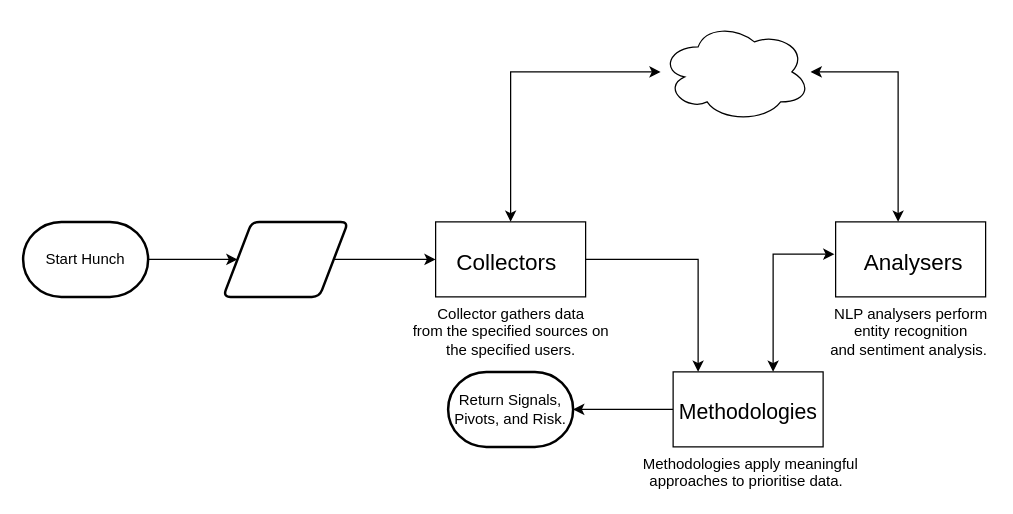
Some shapes in this 1013 by 514 pixel diagram are drawn without their labels. Here are the shapes that lost their labels. From the top down, the centre of each, then its label:
At point (735, 71): "Internet".
At point (285, 259): "JSON files specifying Users and Sources to be profiled.".
